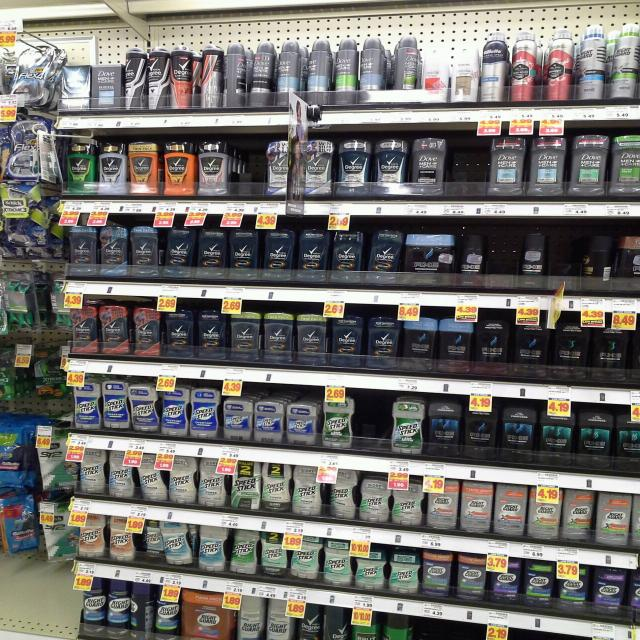empty: (345, 385, 399, 458), (448, 127, 488, 203), (483, 207, 519, 289), (224, 136, 269, 194)
